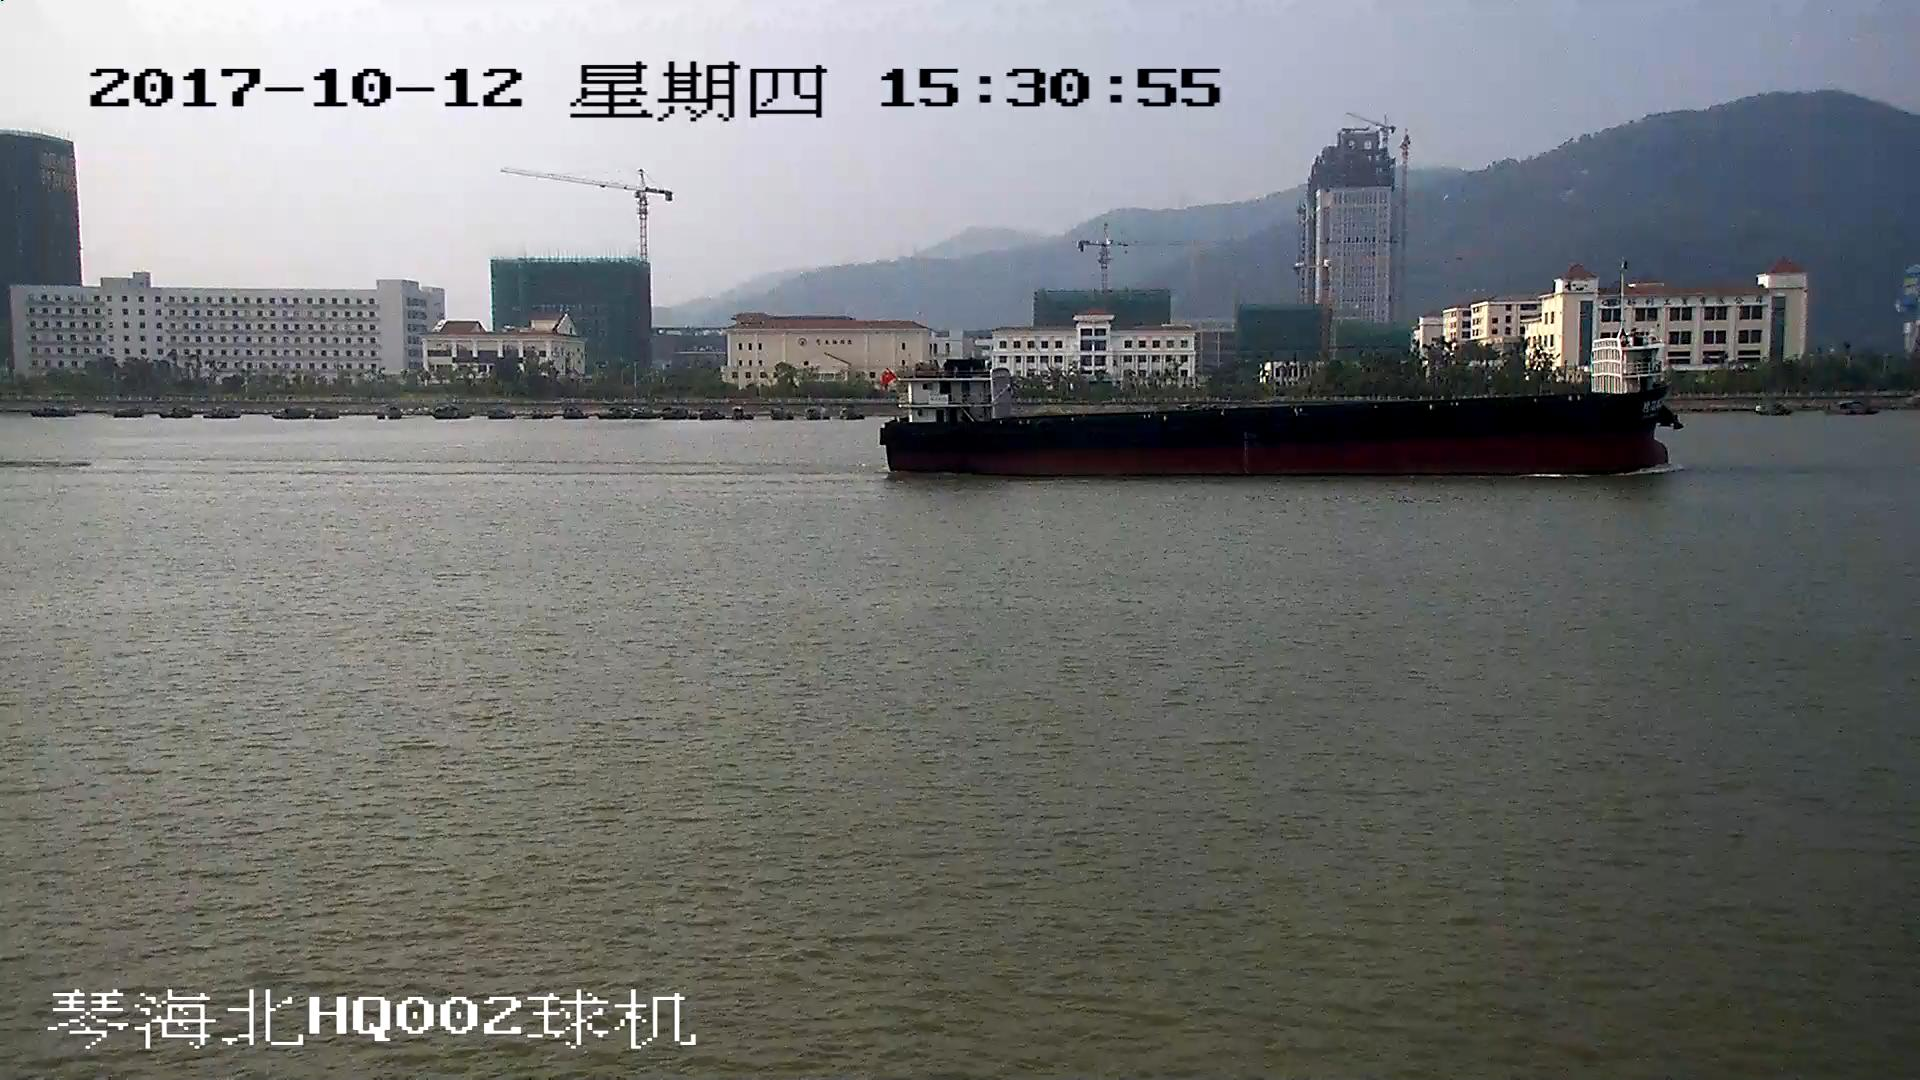general cargo ship: (878, 324, 1678, 478)
